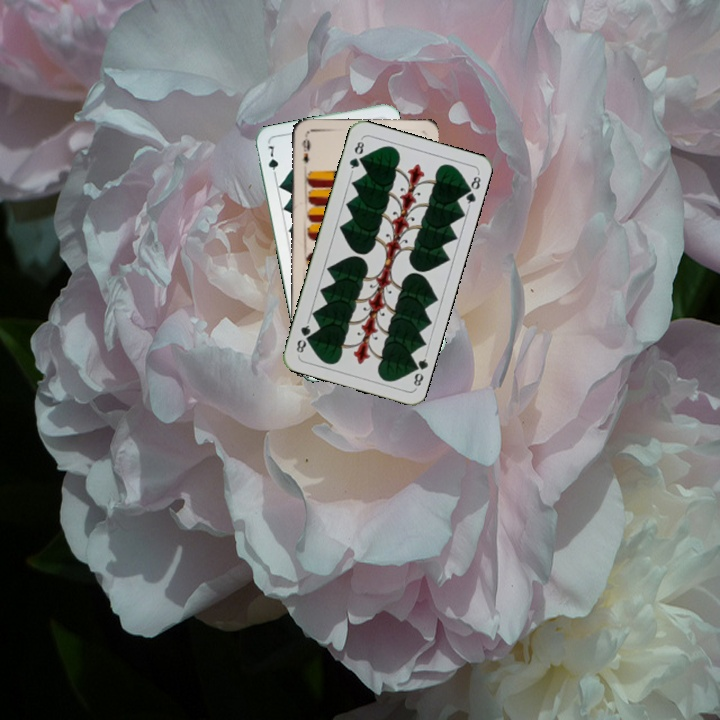E9: (298, 133, 312, 165)
G7: (264, 141, 281, 181)
G8: (407, 351, 430, 391), (345, 135, 367, 175)
